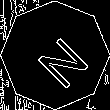N_NW: (23, 23, 87, 87)
